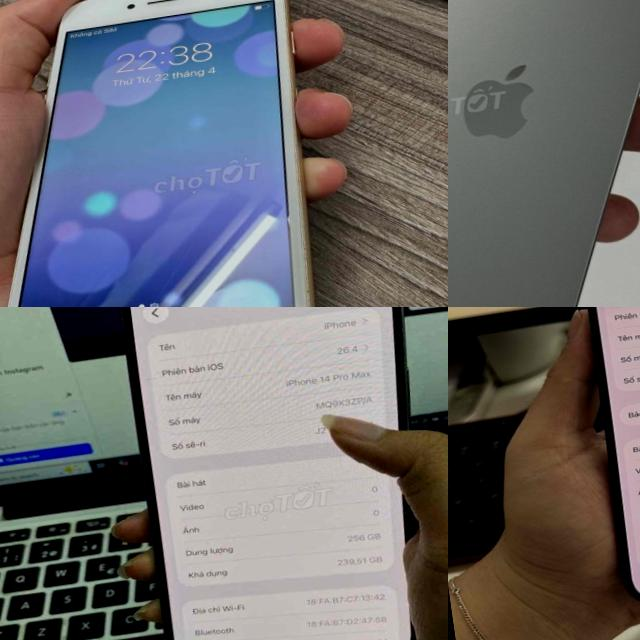gen_14: (95, 307, 439, 640)
gen_15: (448, 0, 640, 307)
gen_7_8: (0, 0, 358, 307)
